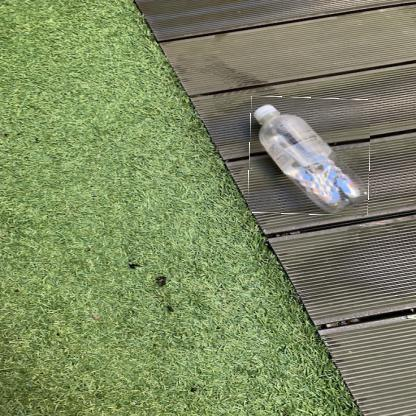plastic-bottles: (250, 98, 371, 216)
